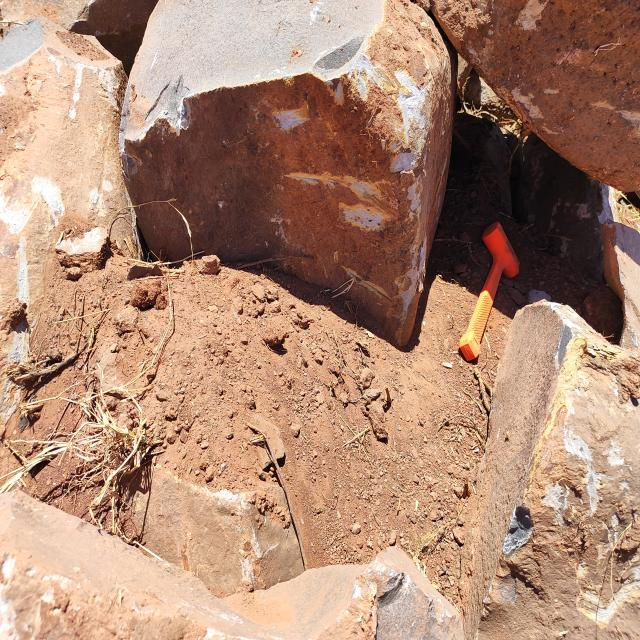Orange_hammer: (457, 220, 520, 363)
